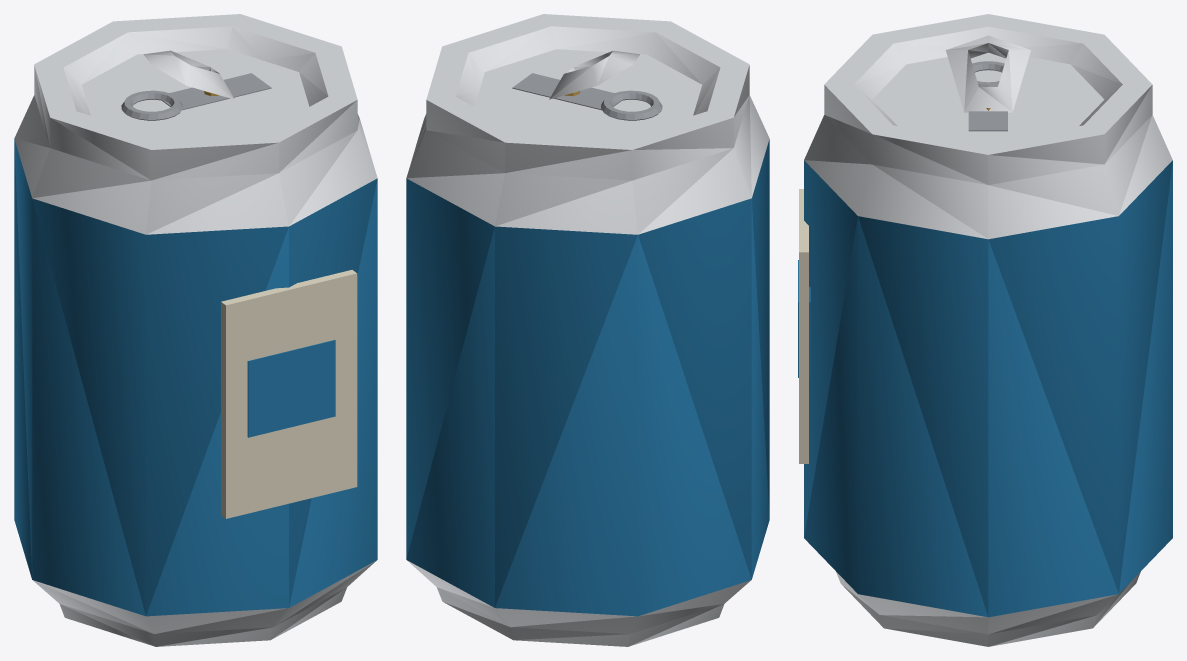
Rendered from soda-can.glb.
The picture shows the model from 3 angles, left to right: view 1: azimuth 30°, elevation 25°; view 2: azimuth 150°, elevation 25°; view 3: azimuth 270°, elevation 25°; orthographic projection.
Visible parts, largest first — view 1: soda-can; view 2: soda-can; view 3: soda-can.
Part boxes in pixels (x1,y1,x2,y2): soda-can: (14,14,377,646); soda-can: (406,14,769,646); soda-can: (798,14,1172,646).
Bounding box in the file's own units: 0.2246 × 0.3506 × 0.2246.
